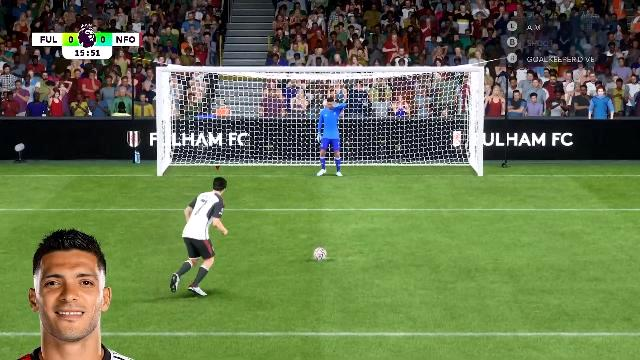bottom-left: (163, 124, 263, 178)
bottom-right: (368, 124, 478, 176)
center-down: (266, 124, 366, 178)
center-up: (266, 72, 364, 122)
circle: (312, 257, 330, 259)
football: (313, 249, 327, 260)
goalkeeper: (316, 96, 346, 184)
player: (166, 176, 240, 296)
top-left: (162, 72, 264, 122)
top-right: (368, 72, 477, 124)
